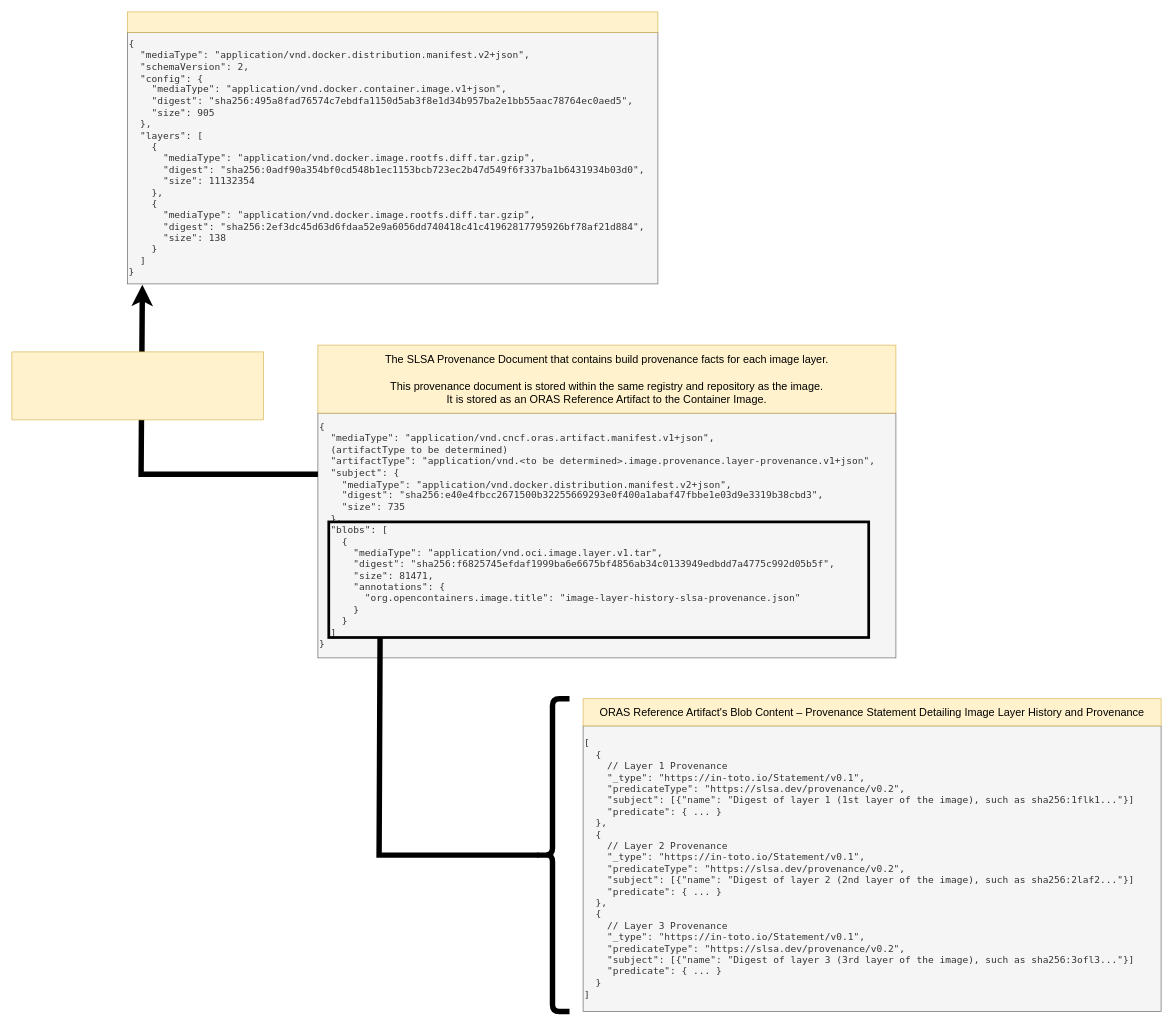
This 1173x1026 diagram has some shape labels left out. The box of each missing label's shape, as (x1, y1, x2, y2) in pixels:
Relationship: ORAS Reference Artifact to the Container Image: (11, 351, 264, 420)
The Container Image: (127, 11, 658, 32)
